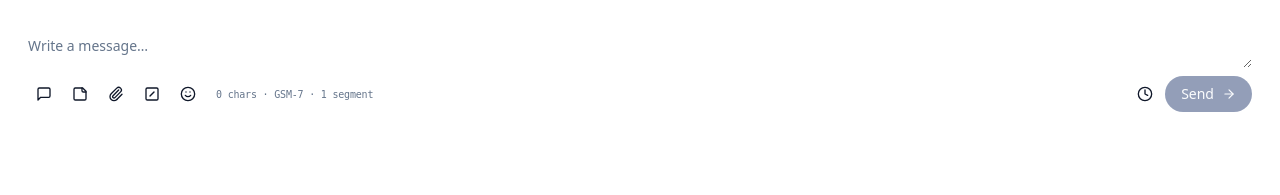
Test: Composer reply/note toggle › a failed note POST renders its message in a role=alert
Click the tab named "Internal note" at coordinates (80, 94), box [64,78,96,110]
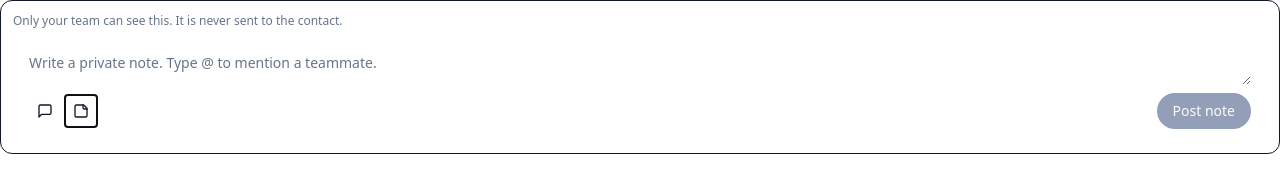
Type "hello" into the text box labelled "note" at coordinates (640, 67), box [29,49,1251,85]
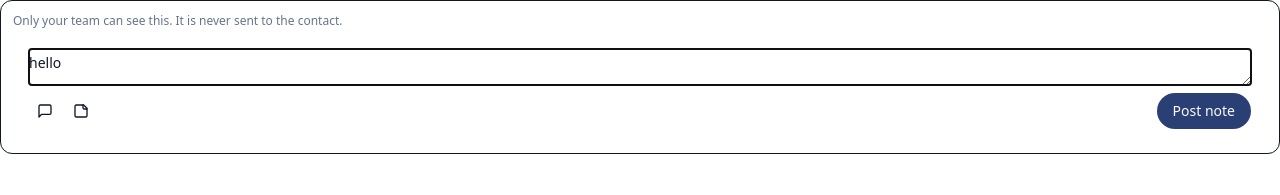
Click the button "Post note" at coordinates (1204, 111), box [1157,93,1251,129]
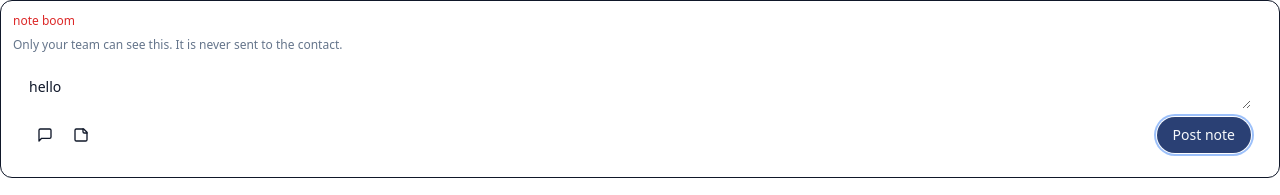
Now the message reads "note boom", box [13,12,75,29]
